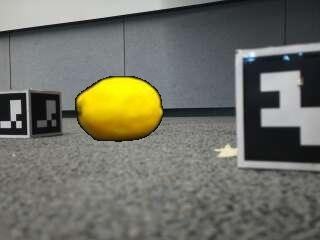lemon: (78, 77, 164, 141)
